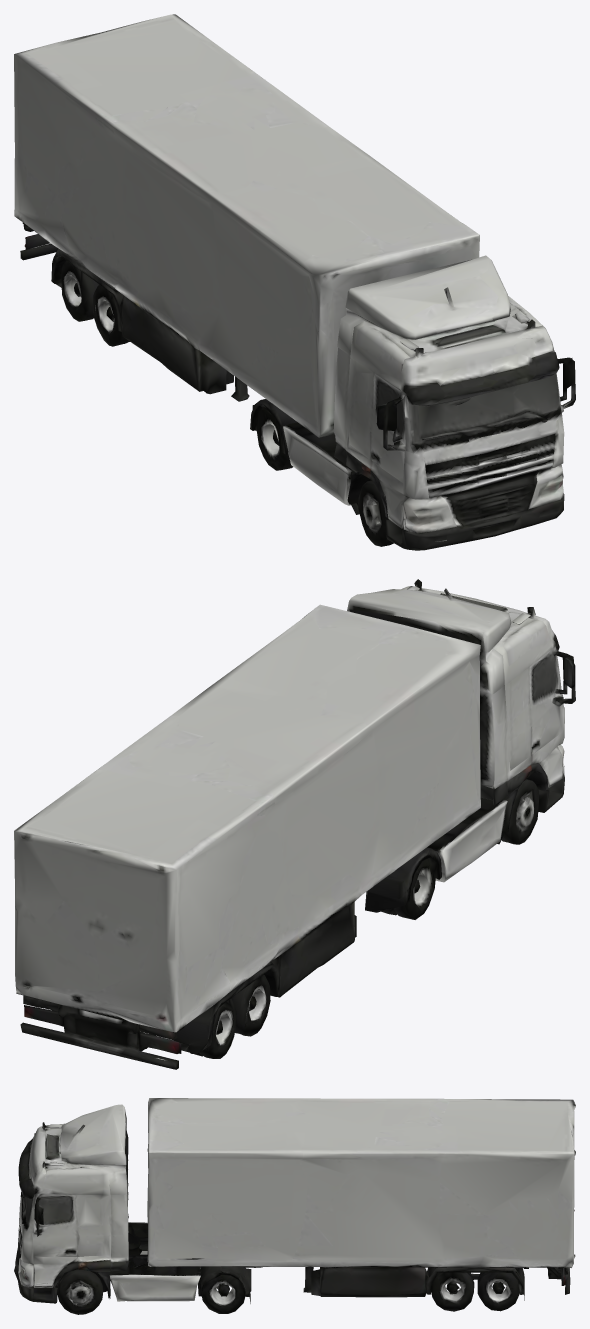
File: truck.glb
The picture shows the model from 3 angles, top to bottom: view 1: azimuth 30°, elevation 25°; view 2: azimuth 150°, elevation 25°; view 3: azimuth 270°, elevation 25°; orthographic projection. The views are drawn at different scales.
Visible parts, largest first — view 1: tripo_node_dee986da-ab41-48a1-b292-55ce7cb88ebe; view 2: tripo_node_dee986da-ab41-48a1-b292-55ce7cb88ebe; view 3: tripo_node_dee986da-ab41-48a1-b292-55ce7cb88ebe.
Part boxes in pixels (<box>): tripo_node_dee986da-ab41-48a1-b292-55ce7cb88ebe: <box>14,14,575,550</box>; tripo_node_dee986da-ab41-48a1-b292-55ce7cb88ebe: <box>14,579,575,1069</box>; tripo_node_dee986da-ab41-48a1-b292-55ce7cb88ebe: <box>14,1098,575,1314</box>.
Size of the model in its own units: 3.04 by 3.5 by 10.77.
Materials: 1 (1 with a texture image).
